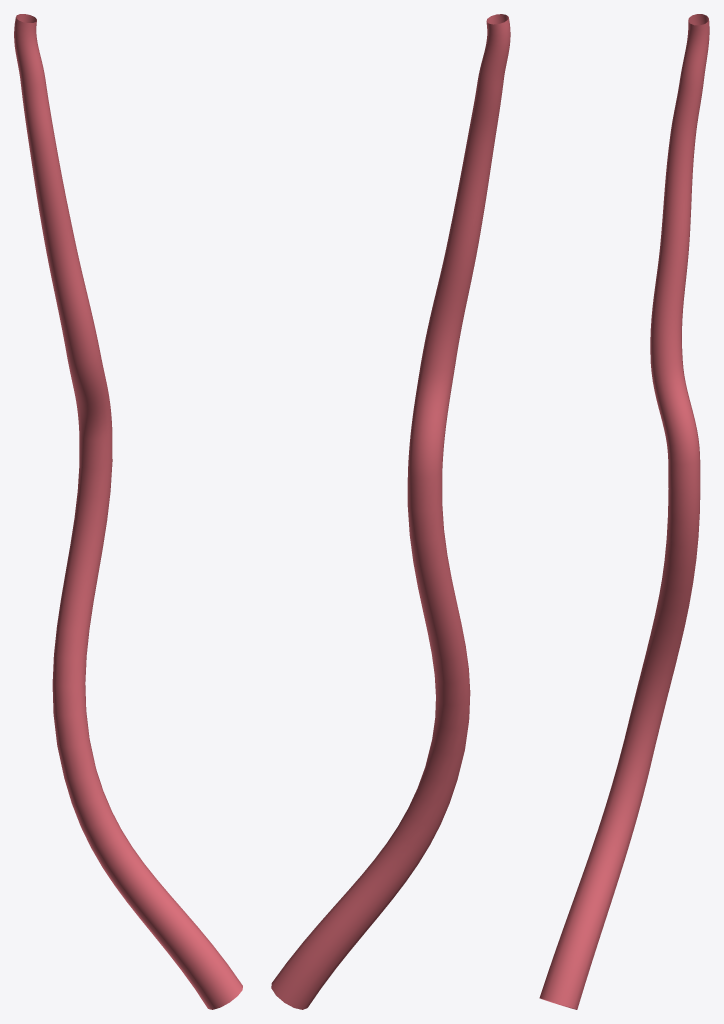
The picture shows the model from 3 angles, left to right: view 1: azimuth 30°, elevation 25°; view 2: azimuth 210°, elevation 25°; view 3: azimuth 270°, elevation 25°; orthographic projection. The views are drawn at different scales.
Parts seen in each view (by area): view 1: ZA_2f14980f036702ce; view 2: ZA_2f14980f036702ce; view 3: ZA_2f14980f036702ce.
Part boxes in pixels (x1,y1,x2,y2): ZA_2f14980f036702ce: (14, 14, 242, 1009); ZA_2f14980f036702ce: (271, 14, 510, 1009); ZA_2f14980f036702ce: (539, 14, 709, 1009).
Bounding box in the file's own units: 0.0212 × 0.1275 × 0.021.
